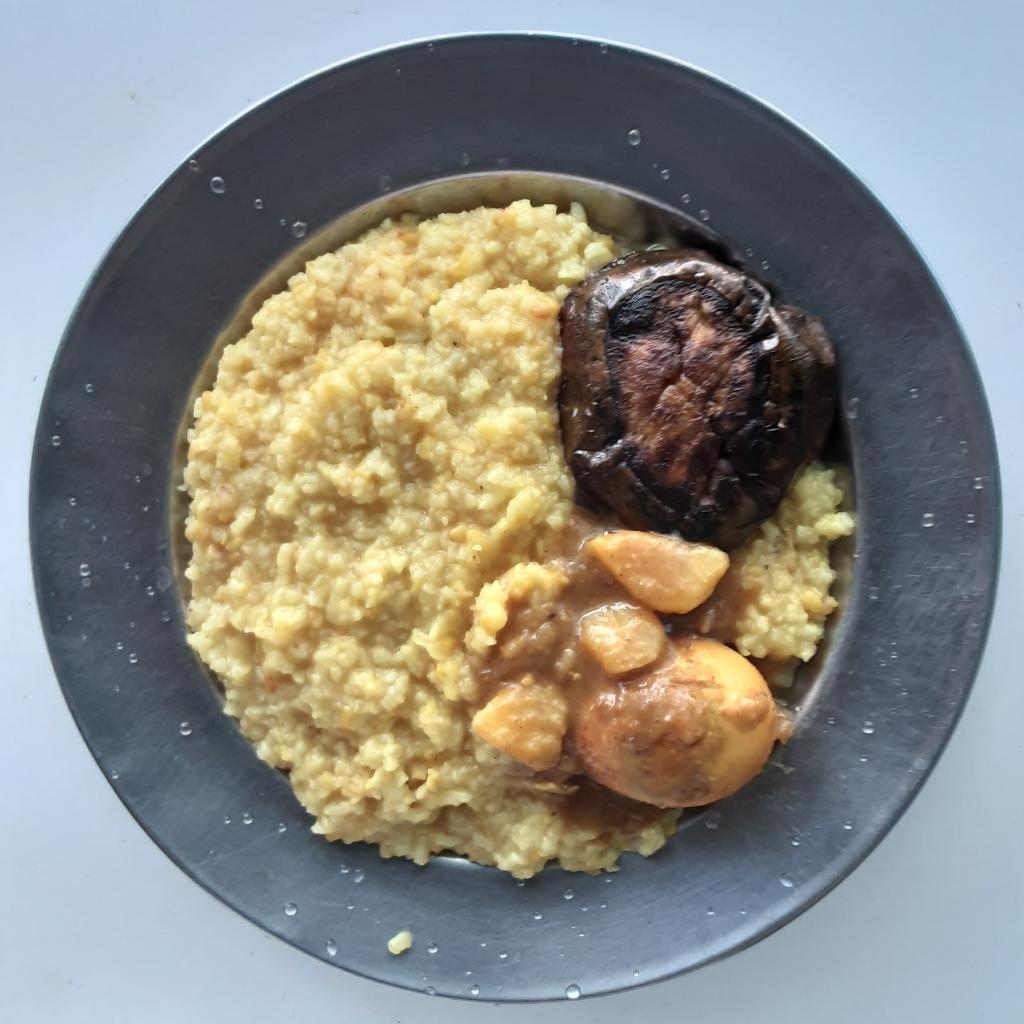begun-vaji: (554, 244, 846, 551)
egg-boiled: (577, 632, 782, 806)
khichuri: (181, 197, 677, 881), (652, 459, 859, 688)
potato: (461, 528, 739, 772)
